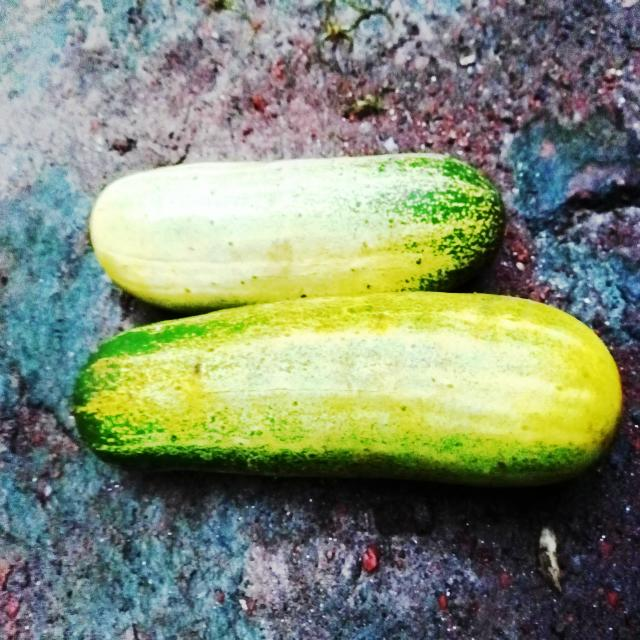Fresh-Cucumber: (71, 288, 625, 484), (90, 148, 506, 310)
